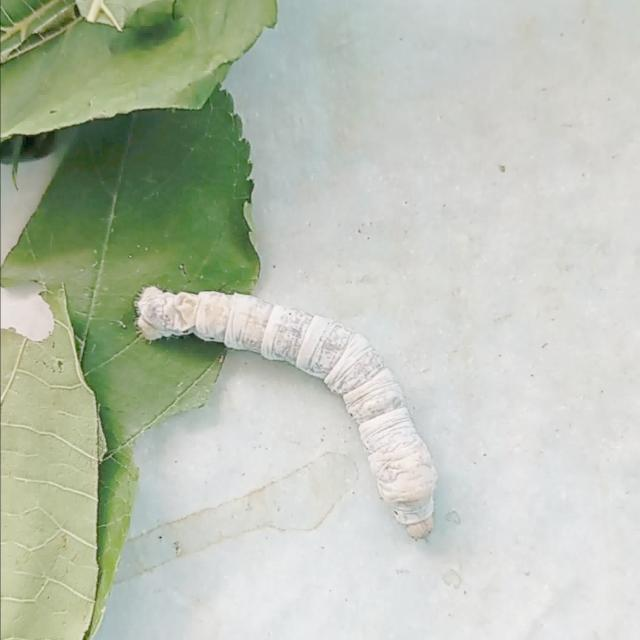Grasserie: (130, 266, 457, 546)
